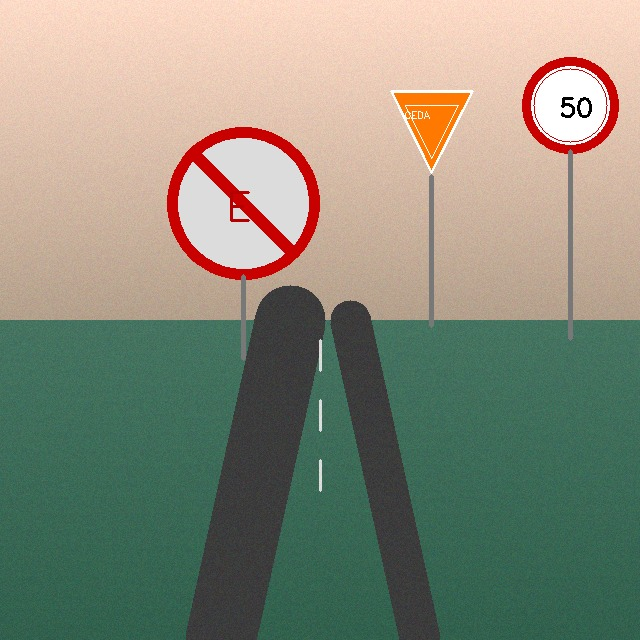ceda_el_paso: (387, 87, 476, 176)
no_estacionar: (170, 130, 316, 276)
velocidad: (524, 59, 616, 151)
